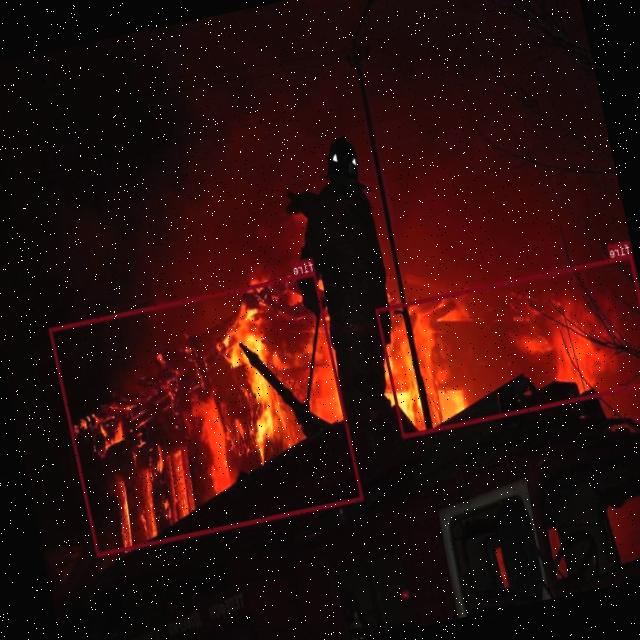fire: (49, 270, 363, 554), (375, 253, 640, 437)
